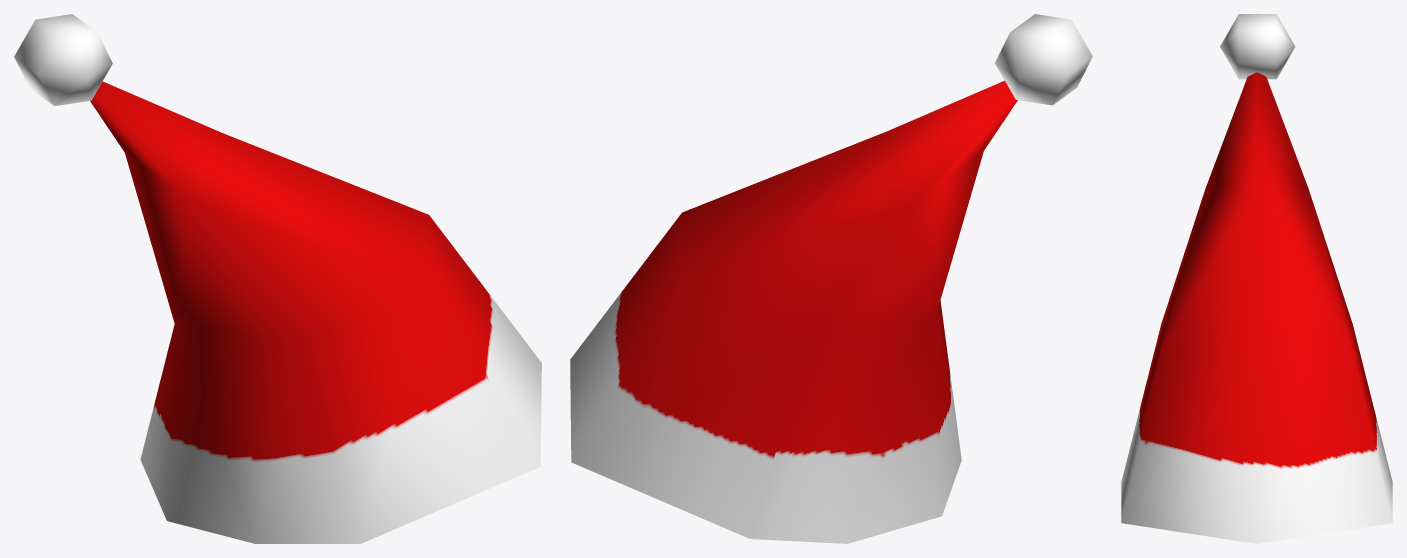
Rendered from hat.FBX.
3 renders of one model, left to right at view 1: azimuth 30°, elevation 25°; view 2: azimuth 150°, elevation 25°; view 3: azimuth 270°, elevation 25°, orthographic. The views are drawn at different scales.
Visible parts, largest first — view 1: Cylinder001; view 2: Cylinder001; view 3: Cylinder001.
Boxes of the visible parts, bbox=[...] form: Cylinder001: bbox=[14, 14, 541, 543]; Cylinder001: bbox=[570, 14, 1092, 543]; Cylinder001: bbox=[1121, 14, 1392, 543].
Size of the model in its own units: 44.77 by 43.28 by 26.77.
